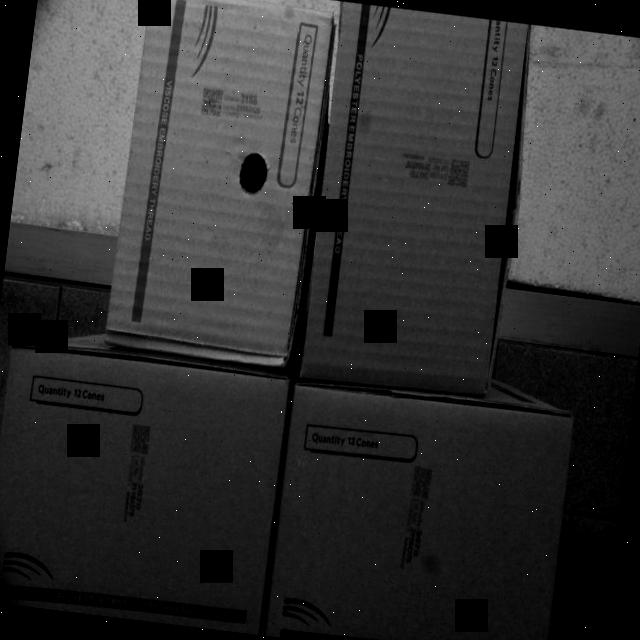box: (298, 1, 536, 398), (103, 0, 334, 369), (0, 342, 287, 634), (263, 386, 572, 640)
